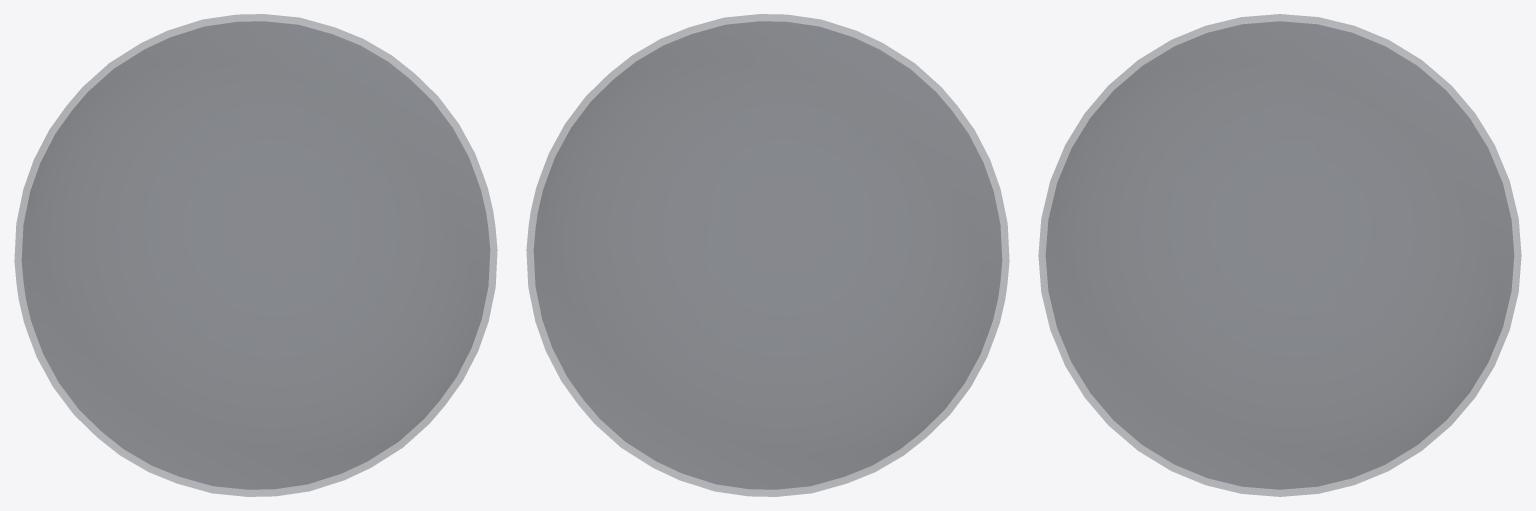
File: mdl_franch_ball.gltf
The picture shows the model from 3 angles, left to right: view 1: azimuth 30°, elevation 25°; view 2: azimuth 150°, elevation 25°; view 3: azimuth 270°, elevation 25°; orthographic projection.
Parts seen in each view (by area): view 1: glass; view 2: glass; view 3: glass.
Part boxes in pixels (<box>): glass: <box>14,14,497,496</box>; glass: <box>526,14,1009,496</box>; glass: <box>1038,14,1521,496</box>.
Size of the model in its own units: 200 by 200 by 200.
1 material, 1 textured.
